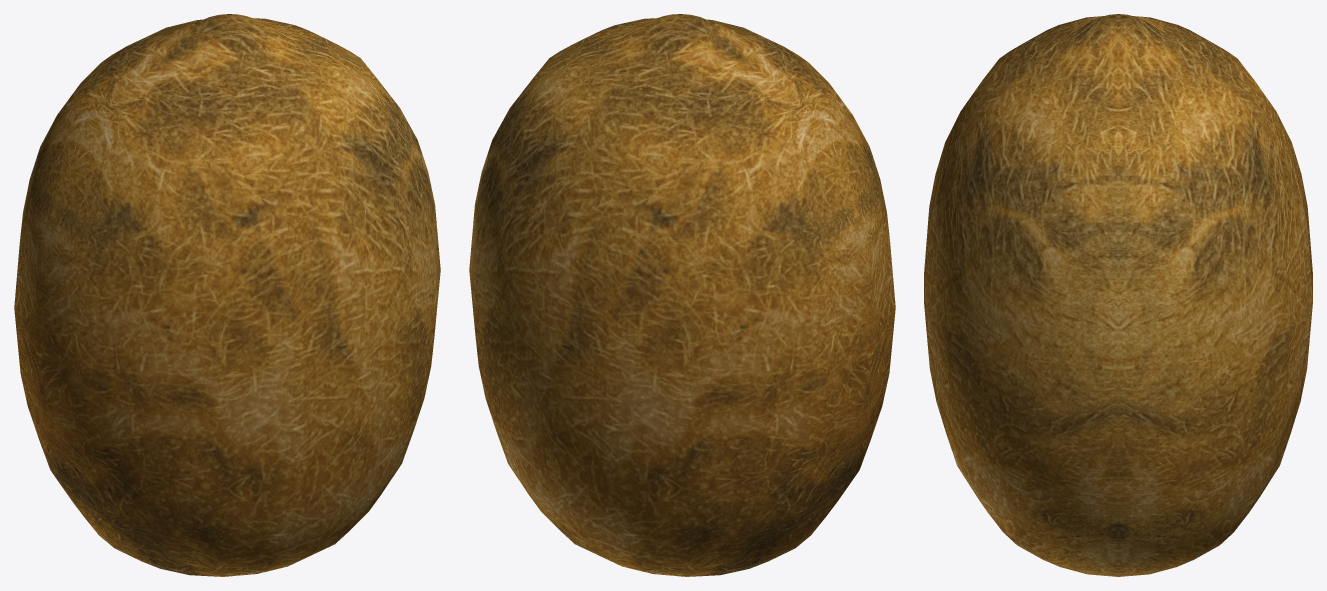
Rendered from Kiwi.FBX.
3 renders of one model, left to right at view 1: azimuth 30°, elevation 25°; view 2: azimuth 150°, elevation 25°; view 3: azimuth 270°, elevation 25°, orthographic.
Parts seen in each view (by area): view 1: Kiwi_Positif; view 2: Kiwi_Positif; view 3: Kiwi_Positif.
Boxes of the visible parts, x1,y1,x2,y2 form: Kiwi_Positif: (14, 14, 440, 576); Kiwi_Positif: (469, 14, 895, 576); Kiwi_Positif: (924, 14, 1312, 576).
Size of the model in its own units: 1.16 by 1.55 by 1.03.
